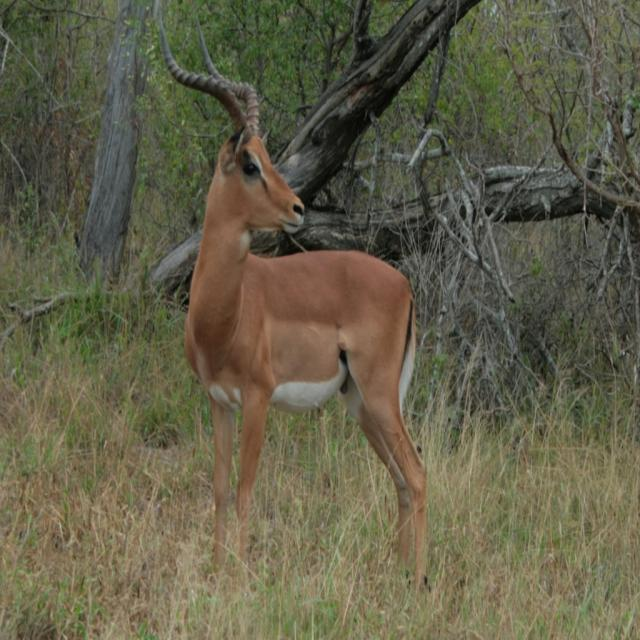Deer: (158, 9, 430, 594)
